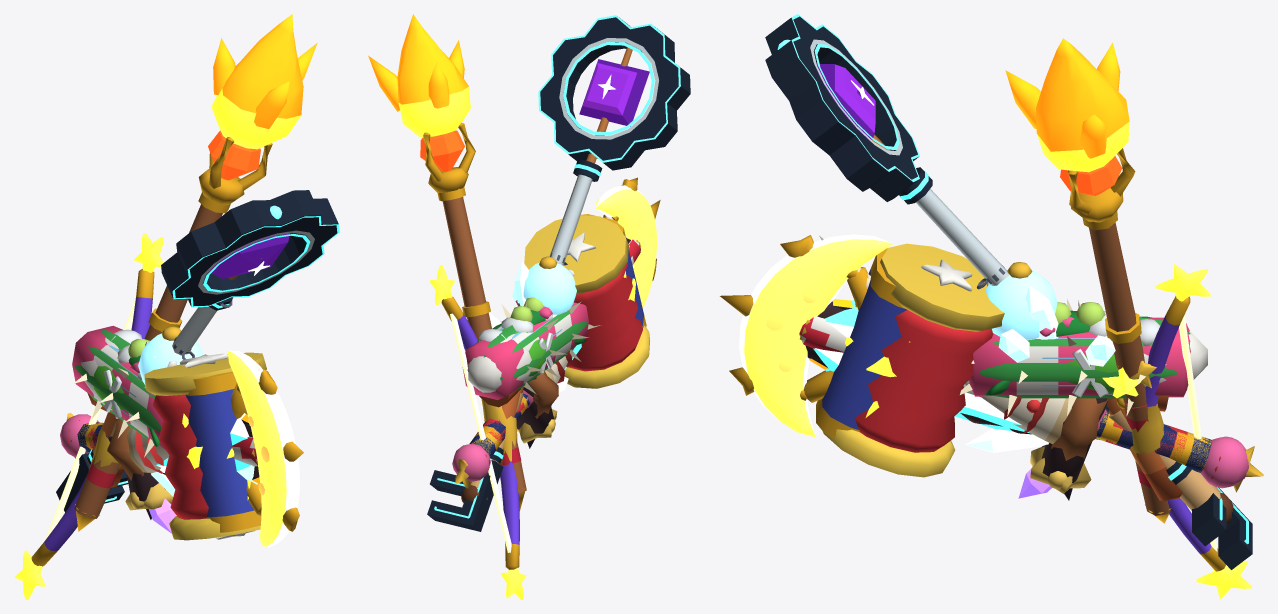
File: gear-weapons.glb
3 renders of one model, left to right at view 1: azimuth 30°, elevation 25°; view 2: azimuth 150°, elevation 25°; view 3: azimuth 270°, elevation 25°, orthographic. The views are drawn at different scales.
Parts seen in each view (by area): view 1: staff_fire@hand-right, gear, toy_hammer@hand-right, hammer_thunder@hand-right, scythe_moon@hand-right, bow_star@hand-right, gun_bubble@hand-right, gun_spike@hand-right, rod_key@hand-right, sword_tusk@hand-right, sword_candy@hand-right, crystal (+5 smaller); view 2: staff_fire@hand-right, gear, toy_hammer@hand-right, bow_star@hand-right, gun_bubble@hand-right, rod_key@hand-right, scythe_moon@hand-right, crystal, gun_spike@hand-right, sword_candy@hand-right, gun_ice@hand-right, hammer_thunder@hand-right (+5 smaller); view 3: toy_hammer@hand-right, staff_fire@hand-right, gear, scythe_moon@hand-right, hammer_thunder@hand-right, gun_bubble@hand-right, bow_star@hand-right, rod_key@hand-right, gun_spike@hand-right, sword_tusk@hand-right, sword_candy@hand-right, sword_crystal@hand-right (+7 smaller).
Part boxes in pixels (bbox=[...]): staff_fire@hand-right: bbox=[74, 14, 317, 531]; gear: bbox=[161, 190, 339, 307]; toy_hammer@hand-right: bbox=[77, 352, 266, 540]; hammer_thunder@hand-right: bbox=[77, 363, 261, 532]; scythe_moon@hand-right: bbox=[66, 350, 299, 546]; bow_star@hand-right: bbox=[14, 233, 163, 599]; gun_bubble@hand-right: bbox=[72, 325, 203, 449]; gun_spike@hand-right: bbox=[73, 329, 161, 487]; rod_key@hand-right: bbox=[56, 297, 233, 512]; sword_tusk@hand-right: bbox=[68, 368, 260, 480]; sword_candy@hand-right: bbox=[60, 414, 257, 510]; crystal: bbox=[209, 231, 289, 278]; staff_fire@hand-right: bbox=[368, 14, 526, 510]; gear: bbox=[538, 15, 690, 170]; toy_hammer@hand-right: bbox=[470, 215, 649, 456]; bow_star@hand-right: bbox=[429, 265, 526, 599]; gun_bubble@hand-right: bbox=[462, 256, 588, 399]; rod_key@hand-right: bbox=[427, 159, 602, 531]; scythe_moon@hand-right: bbox=[455, 185, 656, 488]; crystal: bbox=[579, 59, 649, 126]; gun_spike@hand-right: bbox=[465, 300, 601, 465]; sword_candy@hand-right: bbox=[452, 239, 640, 481]; gun_ice@hand-right: bbox=[479, 261, 571, 374]; hammer_thunder@hand-right: bbox=[469, 214, 646, 458]; toy_hammer@hand-right: bbox=[823, 243, 1211, 477]; staff_fire@hand-right: bbox=[1005, 38, 1171, 523]; gear: bbox=[765, 14, 919, 201]; scythe_moon@hand-right: bbox=[739, 234, 1263, 492]; hammer_thunder@hand-right: bbox=[816, 248, 1211, 472]; gun_bubble@hand-right: bbox=[969, 262, 1190, 397]; bow_star@hand-right: bbox=[1102, 264, 1251, 599]; rod_key@hand-right: bbox=[899, 167, 1252, 569]; gun_spike@hand-right: bbox=[960, 298, 1190, 500]; sword_tusk@hand-right: bbox=[819, 235, 1220, 478]; sword_candy@hand-right: bbox=[799, 316, 1248, 493]; sword_crystal@hand-right: bbox=[813, 300, 1051, 498].
Bounding box in the file's own units: 0.8982 × 1.99 × 1.46.
